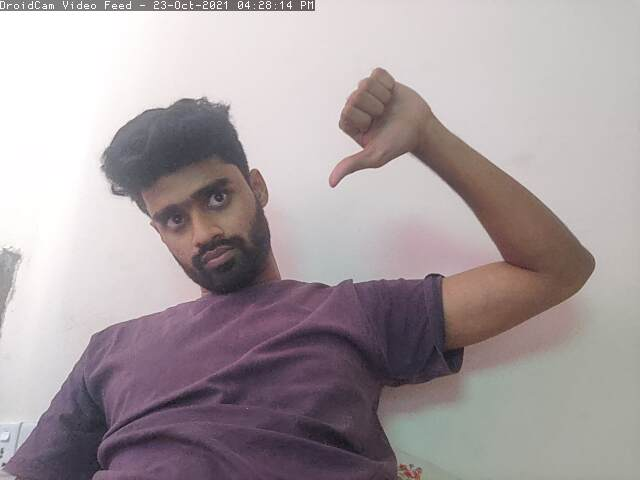ThumbsDown: (322, 64, 431, 194)
